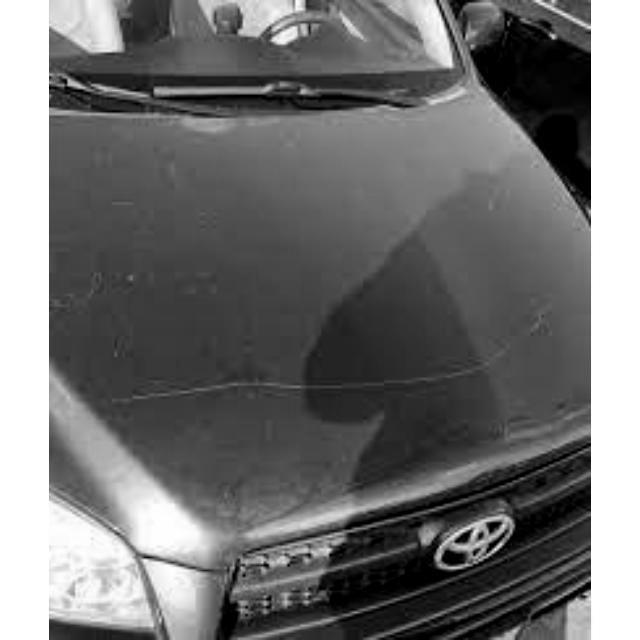bonnet-dent: (52, 113, 589, 553)
